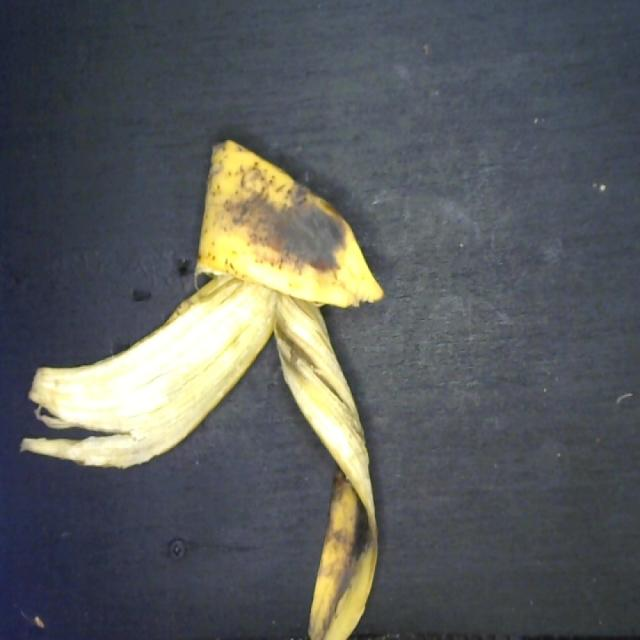biodegradable: (15, 134, 383, 640)
